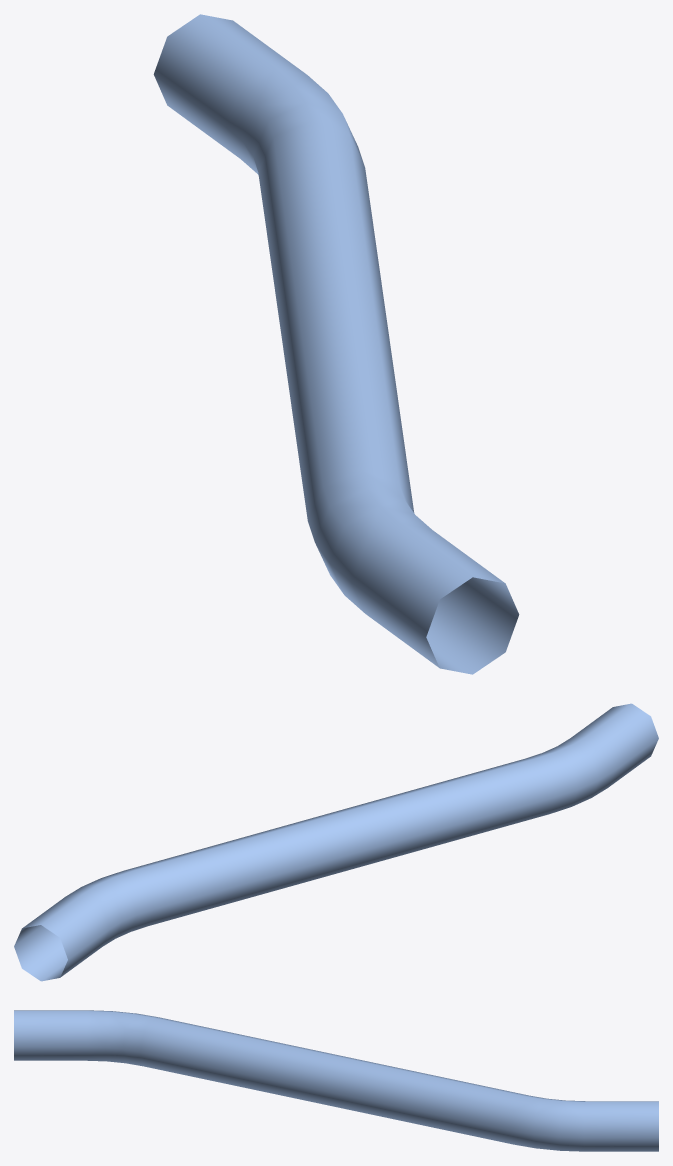
Rendered from PipeSmall_BentSpecial_08.fbx.
3 renders of one model, top to bottom at view 1: azimuth 30°, elevation 25°; view 2: azimuth 150°, elevation 25°; view 3: azimuth 270°, elevation 25°, orthographic. The views are drawn at different scales.
Visible parts, largest first — view 1: PipeSmall_BentSpecial_08.001; view 2: PipeSmall_BentSpecial_08.001; view 3: PipeSmall_BentSpecial_08.001.
Part boxes in pixels (x1,y1,x2,y2): PipeSmall_BentSpecial_08.001: (153,14,519,674); PipeSmall_BentSpecial_08.001: (14,703,658,981); PipeSmall_BentSpecial_08.001: (14,1010,658,1151).
Size of the model in its own units: 0.5 by 0.1 by 1.2.
